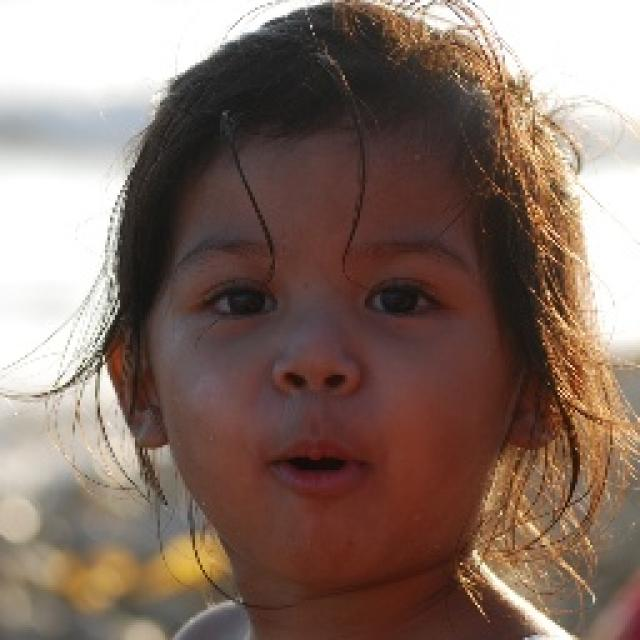earlobe: (504, 388, 552, 449), (128, 400, 168, 449)
eye: (366, 281, 443, 320), (204, 283, 278, 317)
nose: (266, 357, 364, 440)
wholeear: (103, 326, 168, 449)
